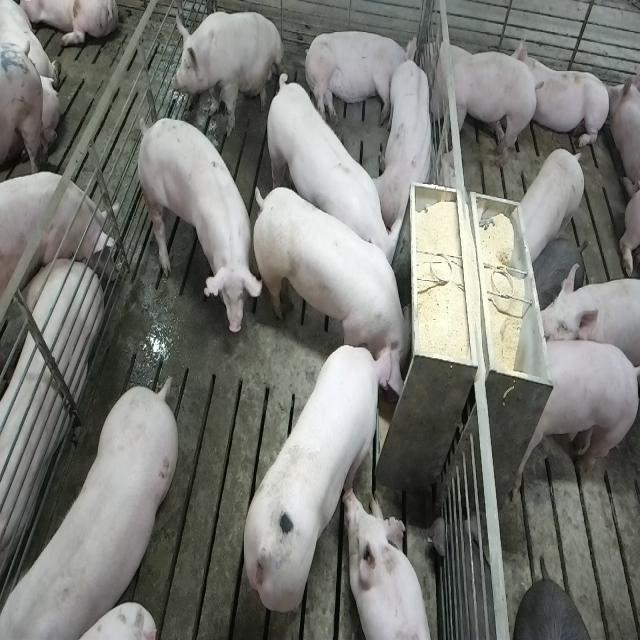Feeding: (242, 338, 400, 618), (257, 177, 420, 380)
Lateral_lying: (0, 252, 101, 609), (302, 28, 418, 128)
Sitting: (172, 8, 285, 135)
Standing: (4, 373, 183, 635), (263, 71, 398, 285), (134, 114, 258, 332), (515, 338, 638, 489), (420, 38, 541, 174), (0, 170, 117, 302), (534, 265, 637, 381), (516, 149, 588, 262)
Sternal_lying: (346, 487, 434, 640), (517, 34, 612, 154), (376, 54, 437, 230)
